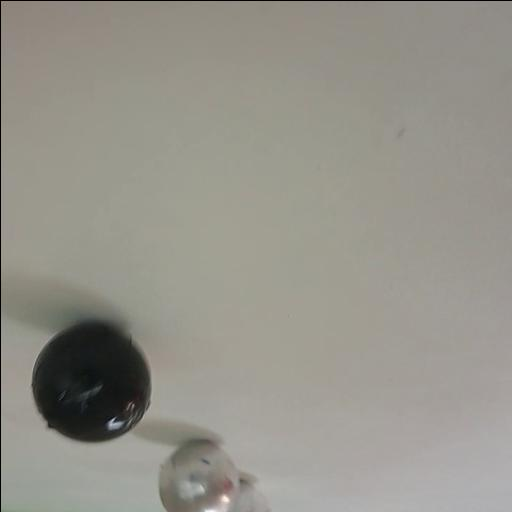alive: (158, 440, 240, 512), (231, 480, 271, 512)
dead: (28, 319, 154, 445)
